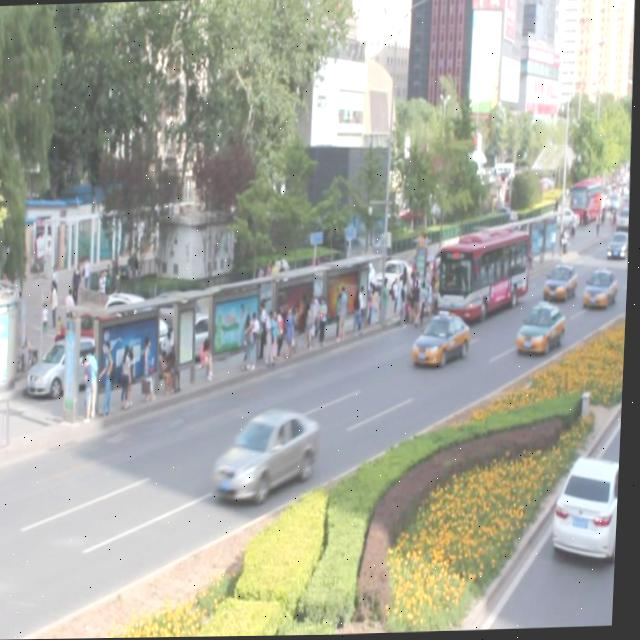car: (213, 407, 324, 501), (412, 313, 472, 369), (517, 302, 568, 357), (543, 264, 579, 307), (582, 271, 619, 312)
van: (436, 226, 533, 325)
